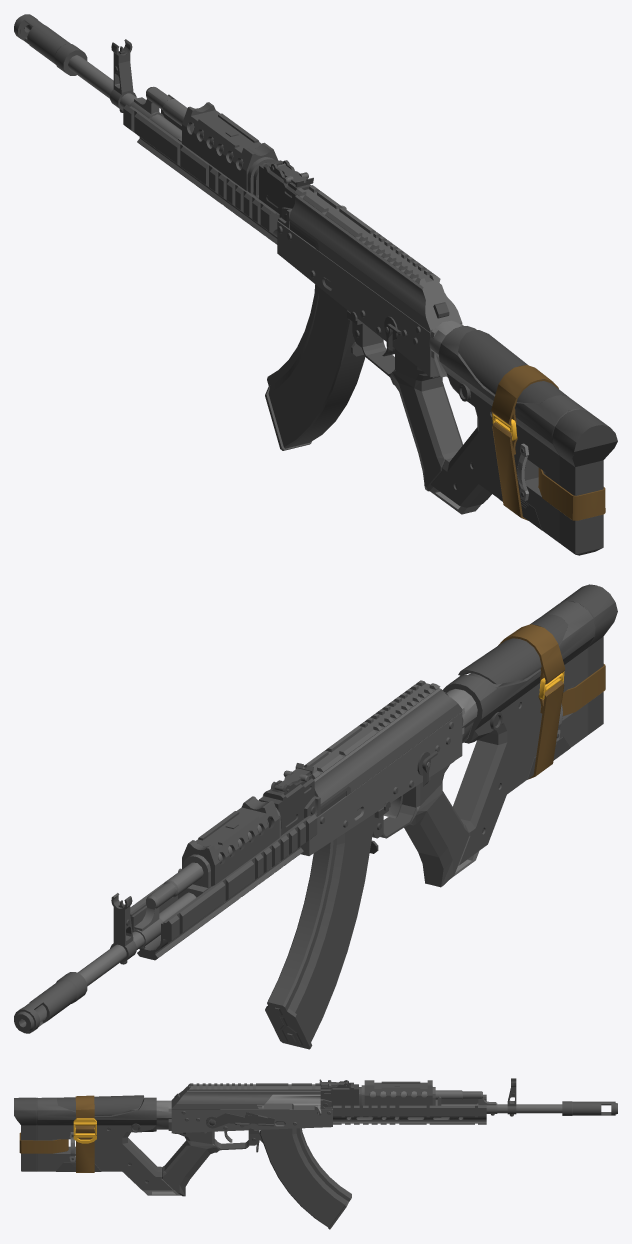
Rendered from rifle_m762.glb.
3 renders of one model, top to bottom at view 1: azimuth 30°, elevation 25°; view 2: azimuth 150°, elevation 25°; view 3: azimuth 270°, elevation 25°, orthographic. The views are drawn at different scales.
Parts seen in each view (by area): view 1: item; view 2: item; view 3: item.
Boxes of the visible parts, box(x1,y1,x2,y2) form: item: box(14, 14, 617, 555); item: box(14, 584, 617, 1049); item: box(14, 1078, 617, 1229).
Size of the model in its own units: 0.0633 by 0.2405 by 0.9.
